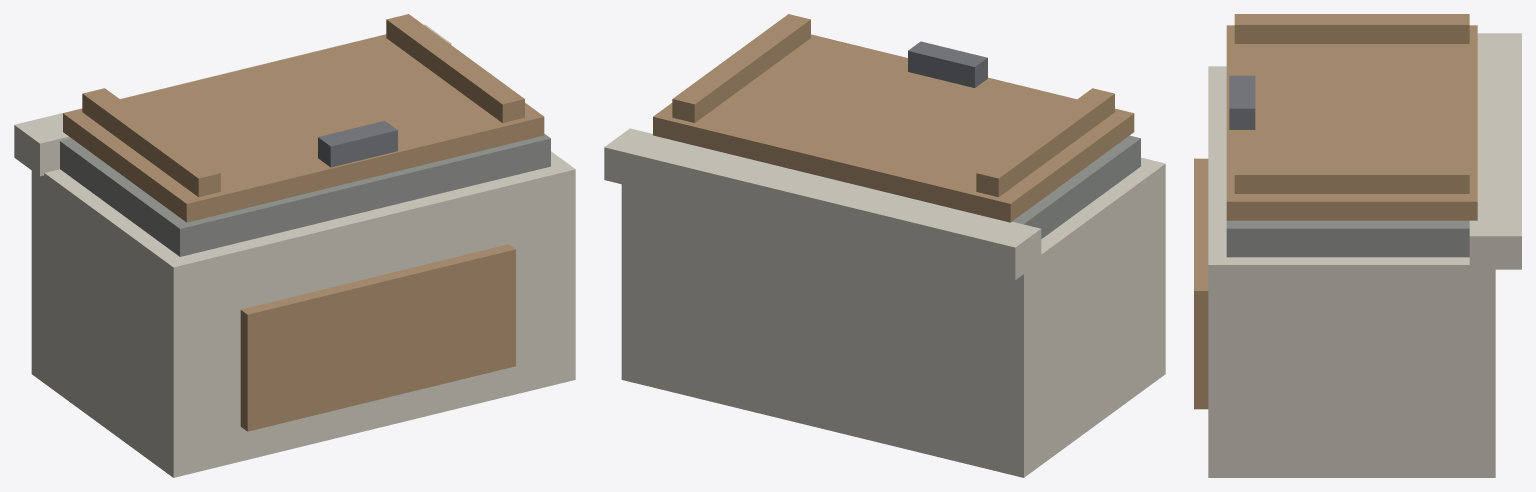
The model's file is lighthouse-and-rocky-coast-coal-bunker-b8f4fa00__36598.glb.
3 renders of one model, left to right at view 1: azimuth 30°, elevation 25°; view 2: azimuth 150°, elevation 25°; view 3: azimuth 270°, elevation 25°, orthographic.
Parts seen in each view (by area): view 1: coal-bunker, hatch/timber, hatch/iron; view 2: coal-bunker, hatch/timber, hatch/iron; view 3: coal-bunker, hatch/timber, hatch/iron.
Boxes of the visible parts, <box> form: coal-bunker: <box>14,24,575,477</box>; hatch/timber: <box>63,14,544,222</box>; hatch/iron: <box>318,121,397,167</box>; coal-bunker: <box>604,128,1165,477</box>; hatch/timber: <box>653,14,1134,222</box>; hatch/iron: <box>908,41,987,87</box>; coal-bunker: <box>1194,33,1521,477</box>; hatch/timber: <box>1226,14,1477,220</box>; hatch/iron: <box>1229,75,1255,129</box>.
Bounding box in the file's own units: 1.84 × 1.21 × 1.26.
